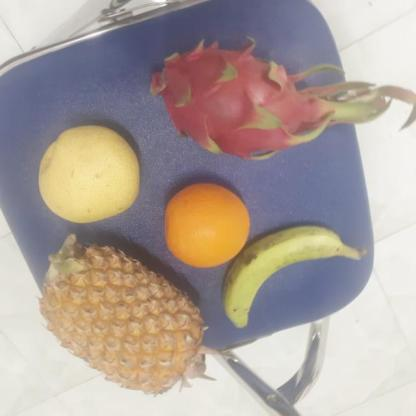banana: (212, 222, 354, 326)
guava: (35, 123, 139, 221)
pear: (160, 182, 252, 268)
pineapple: (42, 235, 202, 390)
pitaya: (138, 39, 325, 163)
